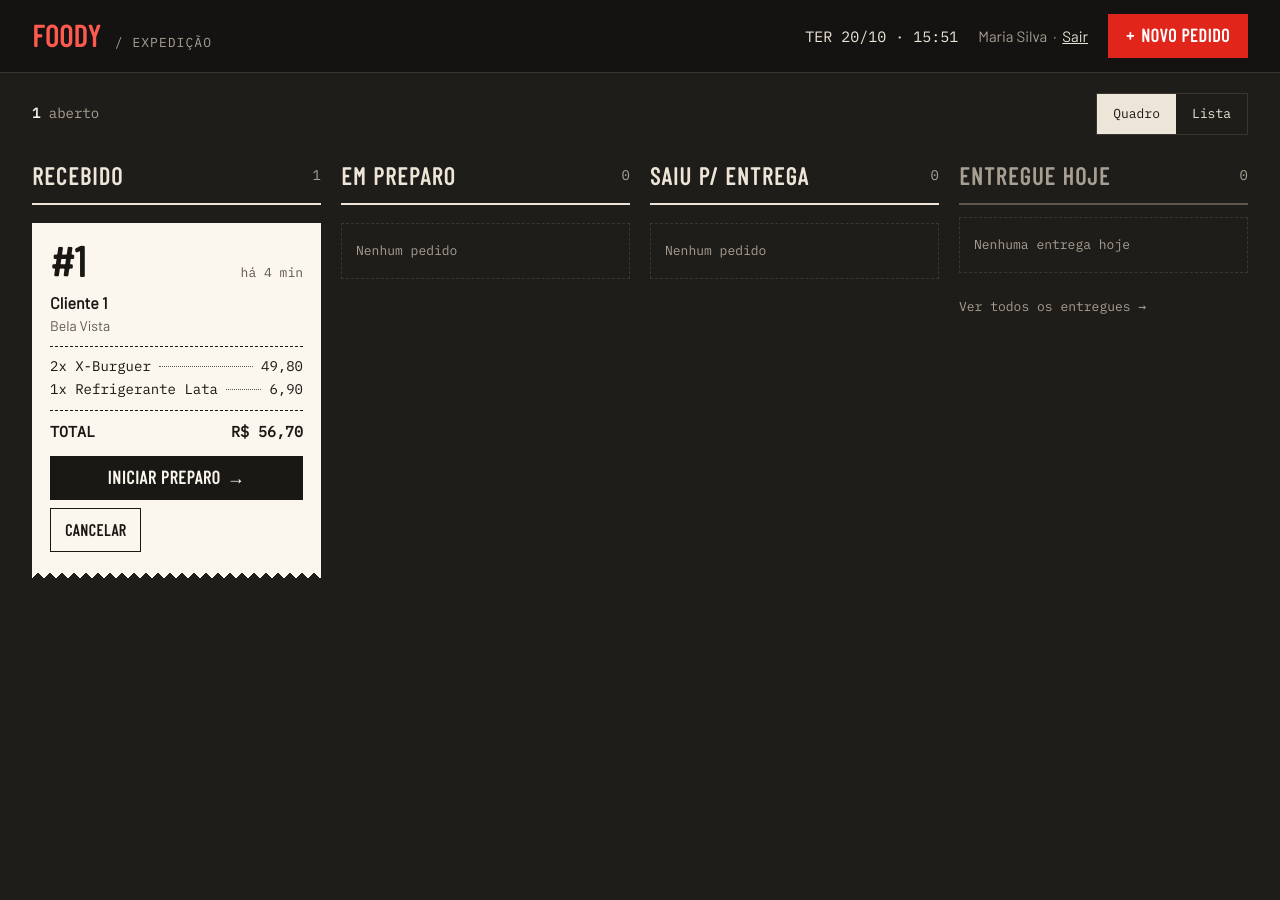
Test case: OrdersPage board › asks for confirmation before cancelling
The width and height of the screenshot is (1280, 900).
Click the button with aria-label "Cancelar pedido #1" at point(96, 530), box [50,508,141,552]
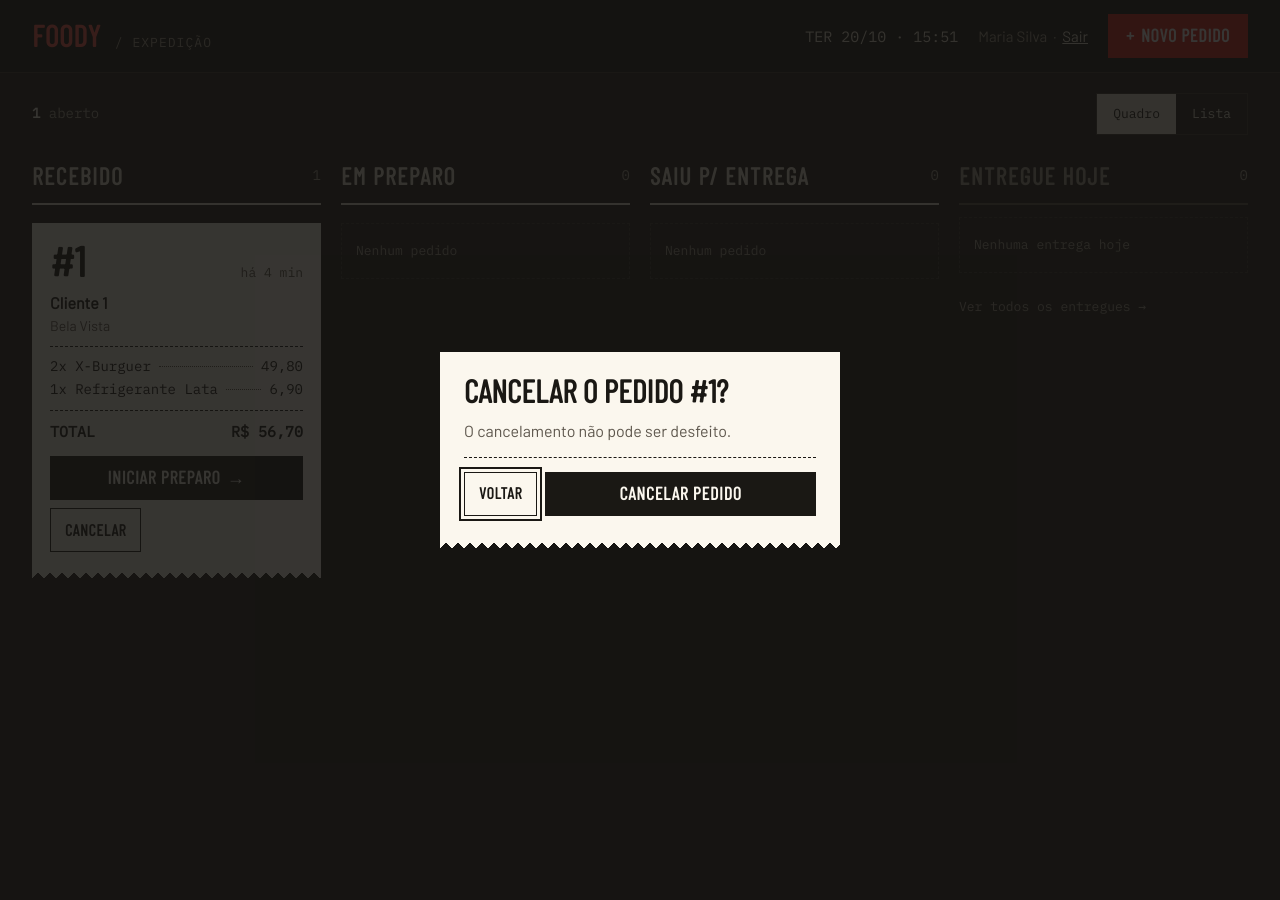
Click the button "Voltar" at point(501, 494), box [464,472,537,516]
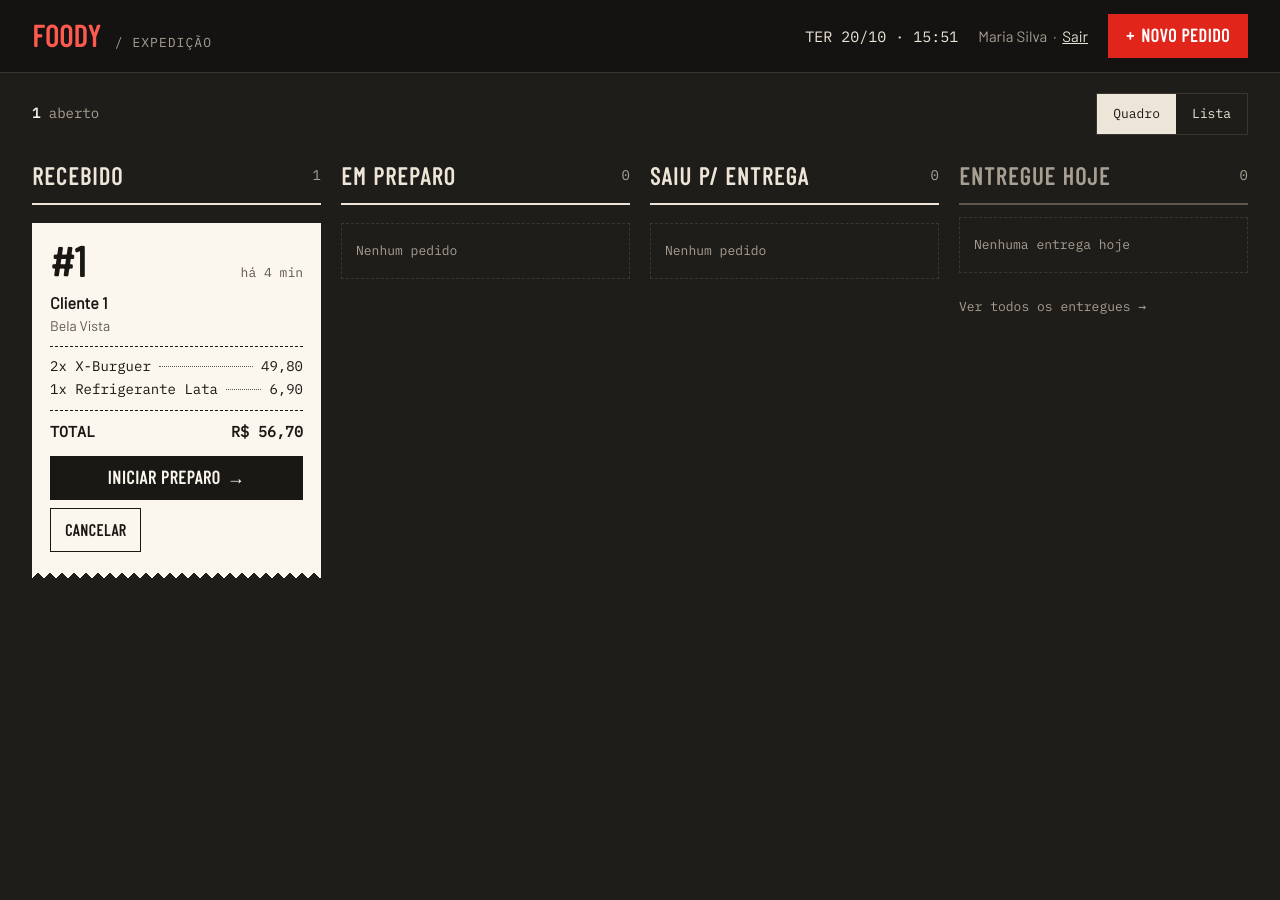
Now the dialog is gone
Click the button with aria-label "Cancelar pedido #1" at point(96, 530), box [50,508,141,552]
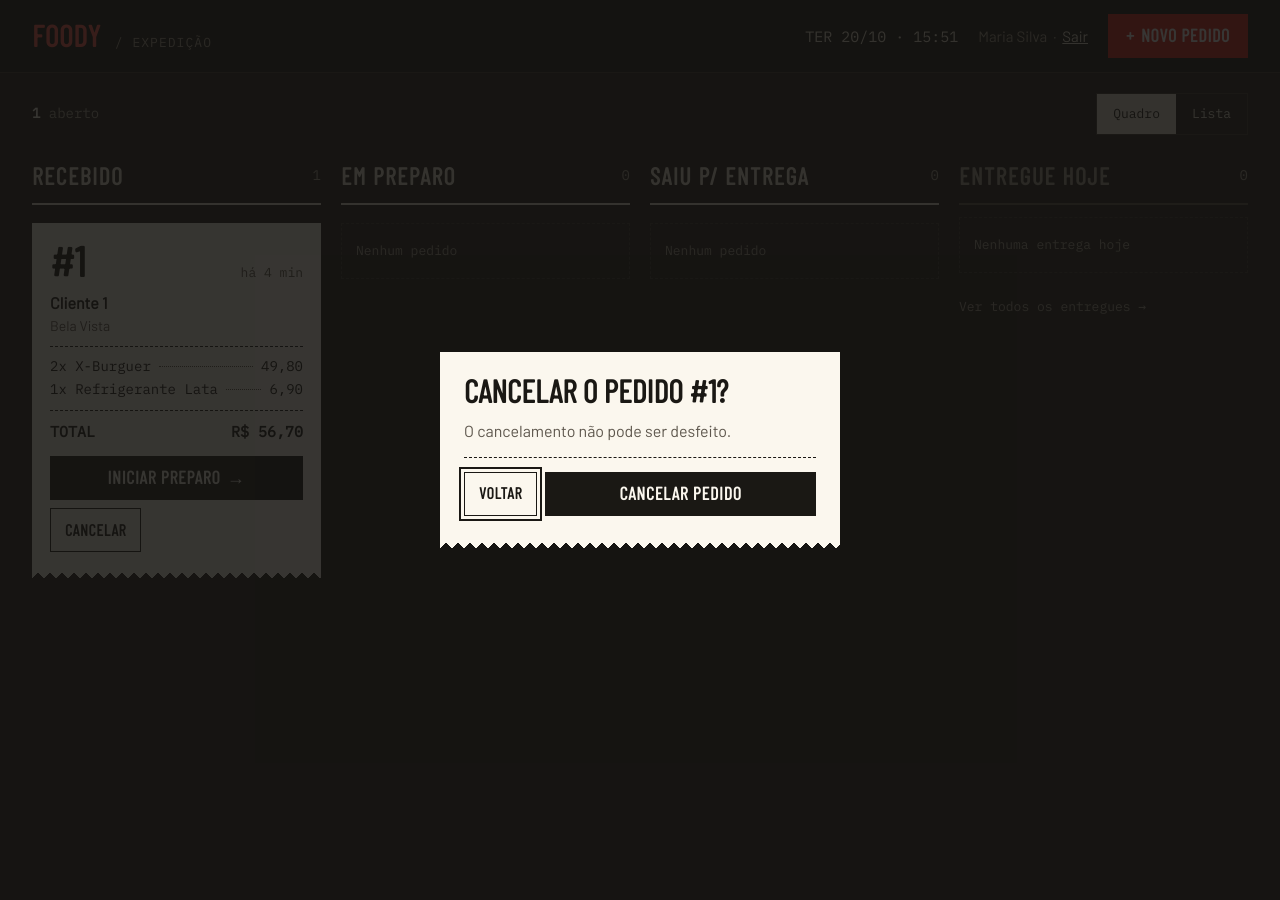
Click the button "Cancelar pedido" at point(681, 494), box [545,472,816,516]
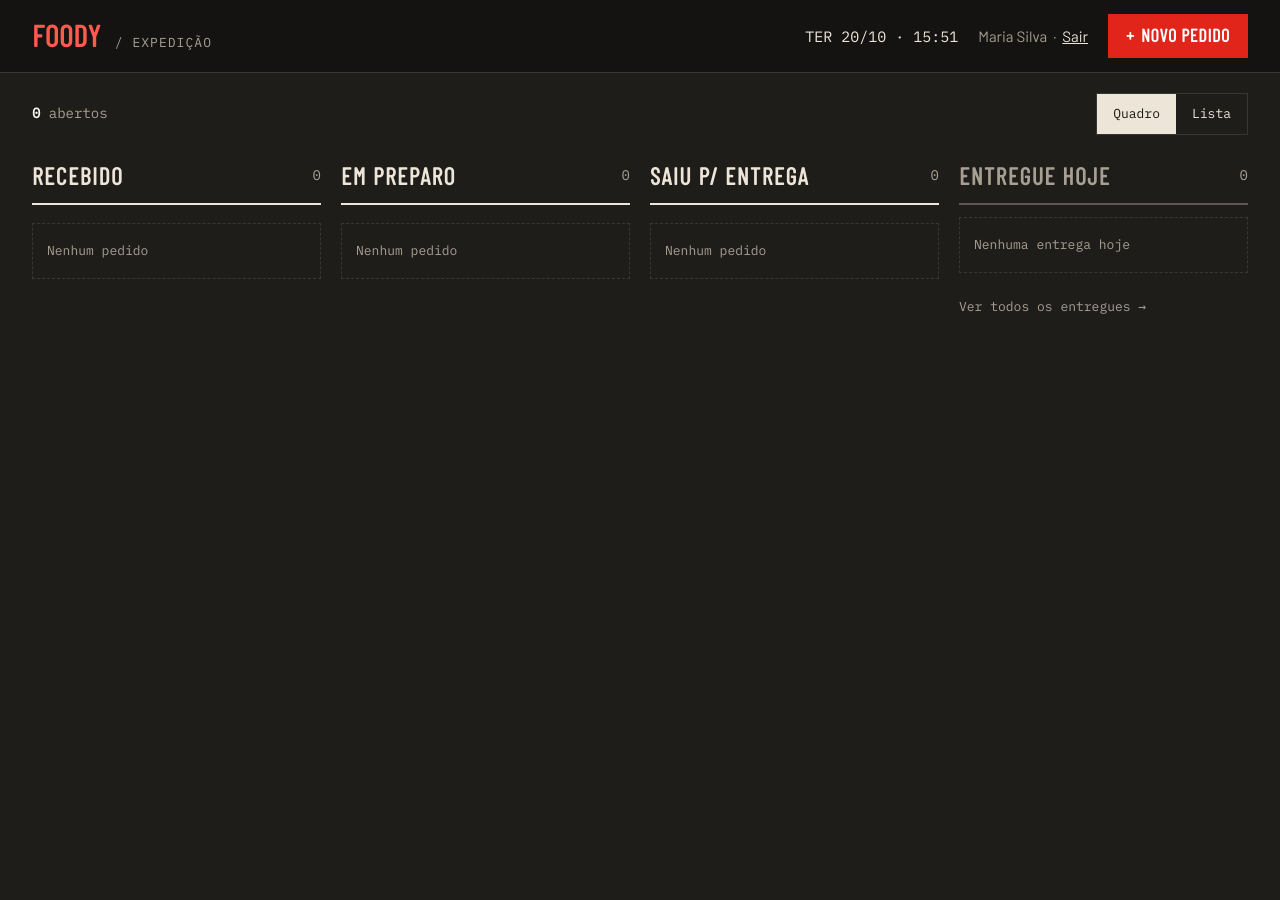
Now the heading "pedido #1" is gone
Now the dialog is gone
